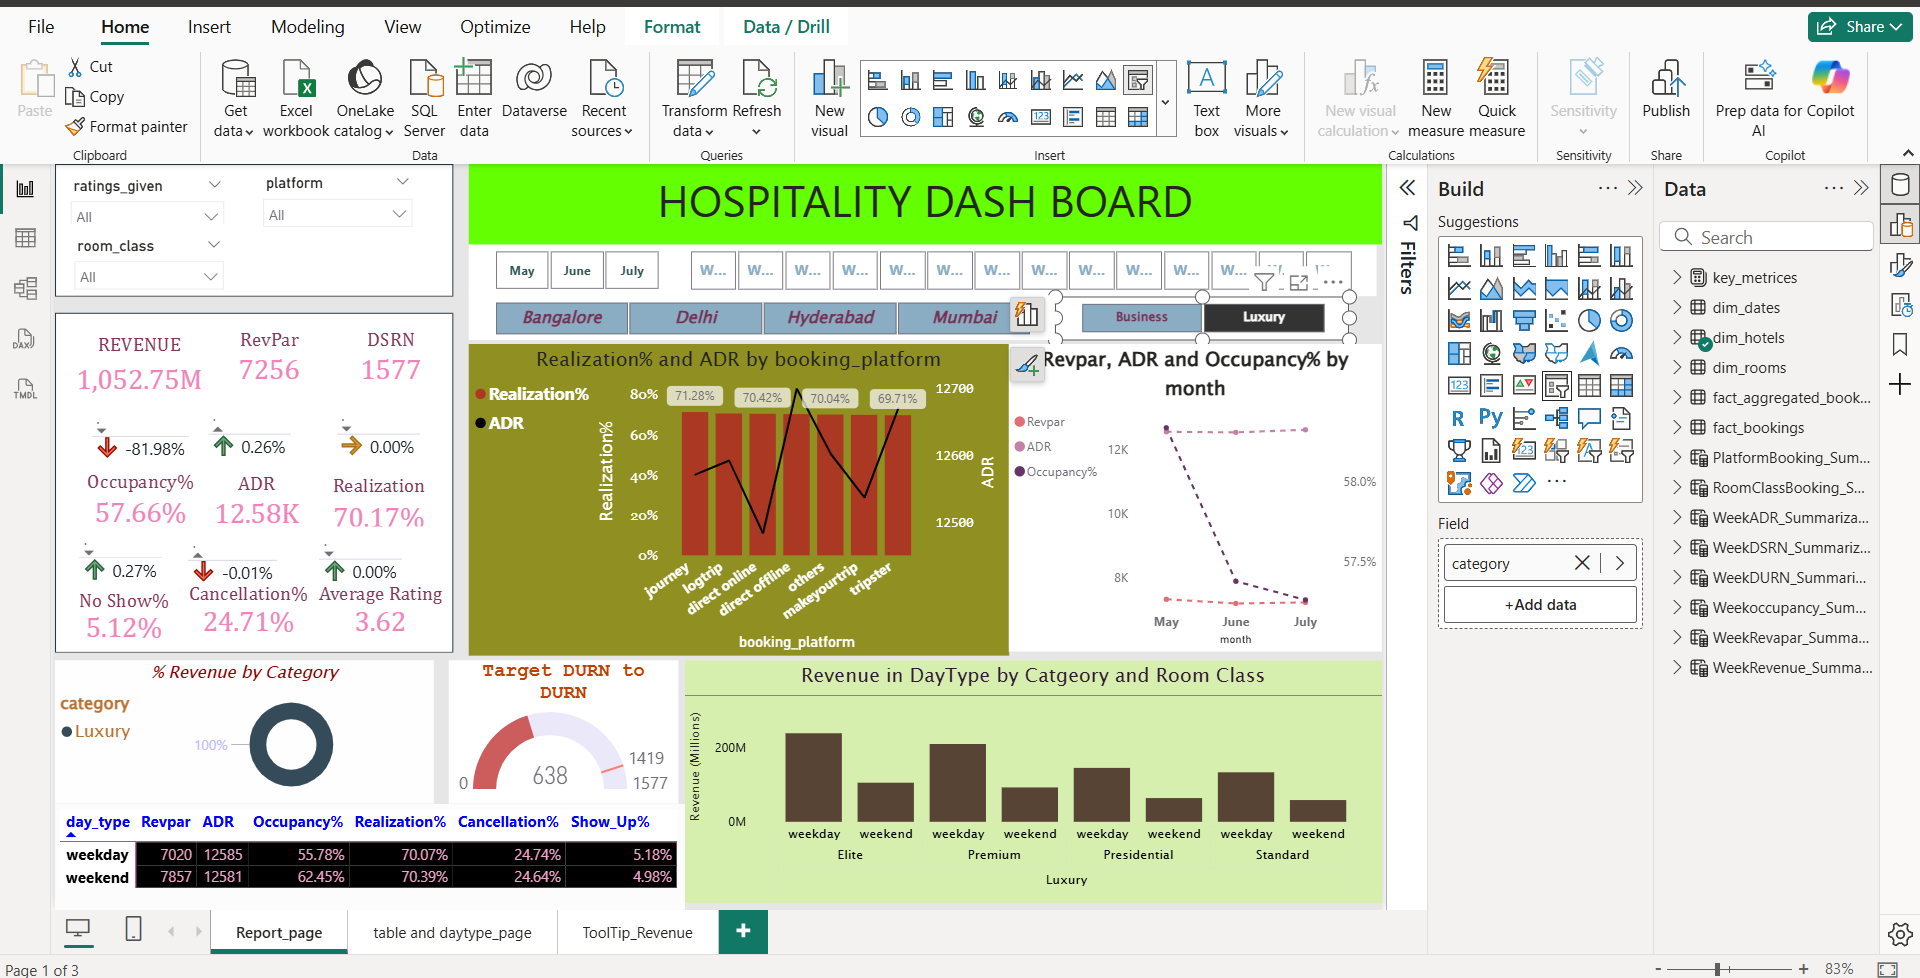

This screenshot's page, from the dashboard's own definition file:
{"tool":"powerbi","page":{"name":"Report_page","canvas":[1280,720],"ordinal":0},"visuals":[{"type":"shape","box":[0,144,384.5,328.3],"z":0},{"type":"slicer","fields":{"Values":["dim_dates.week no"]},"box":[587.5,77.2,687.7,50.7],"z":1000},{"type":"slicer","fields":{"Values":["dim_dates.month"]},"box":[398.9,77.8,207.4,50.4],"z":2000},{"type":"card","title":"REVENUE","fields":{"Values":["key_metrices.Total_Revenue"]},"box":[14.4,162.7,133.9,69.1],"z":3000},{"type":"card","title":"RevPar","fields":{"Values":["key_metrices.Revpar"]},"box":[141.1,158.4,131,59],"z":4000},{"type":"card","title":"DSRN","fields":{"Values":["key_metrices.DSRN"]},"box":[266.4,158.4,115.2,59],"z":5000},{"type":"tableEx","title":"RevPar","fields":{"Values":["key_metrices.Revpar Week%"]},"box":[141.1,229,118.1,70.6],"z":6000},{"type":"tableEx","title":"RevPar","fields":{"Values":["key_metrices.Revenue WOW%"]},"box":[28.8,231.8,119.5,70.6],"z":7000},{"type":"tableEx","title":"RevPar","fields":{"Values":["key_metrices.DSRN WOW%"]},"box":[265,229,115.2,70.6],"z":8000},{"type":"card","title":"Occupancy%","fields":{"Values":["key_metrices.Occupancy%"]},"box":[23,295.2,119.5,60.5],"z":9000},{"type":"card","title":"ADR","fields":{"Values":["key_metrices.ADR"]},"box":[136.8,296.6,116.6,60.5],"z":10000},{"type":"card","title":"Realization","fields":{"Values":["key_metrices.Relization%"]},"box":[244.8,299.5,135.4,63.4],"z":11000},{"type":"tableEx","title":"RevPar","fields":{"Values":["key_metrices.Occupancy WOW%"]},"box":[17.3,348.5,109.4,60.5],"z":12000},{"type":"tableEx","title":"RevPar","fields":{"Values":["key_metrices.ADR Week%"]},"box":[122.4,351.4,131,59],"z":13000},{"type":"tableEx","title":"RevPar","fields":{"Values":["key_metrices.Realization WOW%"]},"box":[249.1,349.9,131,59],"z":14000},{"type":"card","title":"No Show%","fields":{"Values":["key_metrices.Show_Up%"]},"box":[17.3,410.4,99.4,53.3],"z":15000},{"type":"card","title":"Cancellation%","fields":{"Values":["key_metrices.Cancellation%"]},"box":[121,403.2,132.5,56.2],"z":16000},{"type":"card","title":"Average Rating","fields":{"Values":["key_metrices.Average_Rating"]},"box":[249.1,403.2,131,56.2],"z":17000},{"type":"actionButton","box":[23,17.3,99.4,40.3],"z":18000},{"type":"pivotTable","fields":{"Rows":["dim_dates.day_type"],"Values":["key_metrices.Revpar","key_metrices.ADR","key_metrices.Occupancy%","key_metrices.Relization%","key_metrices.Cancellation%","key_metrices.Show_Up%"]},"box":[0,617.8,607.7,102.2],"z":19000},{"type":"lineStackedColumnComboChart","fields":{"Category":["fact_bookings.booking_platform"],"Y":["key_metrices.Realization%"],"Y2":["key_metrices.ADR"]},"box":[398.9,174.2,521.3,301],"z":20000},{"type":"donutChart","title":"% Revenue by Category","fields":{"Category":["dim_hotels.category"],"Y":["key_metrices.Total_Revenue"]},"box":[0,479.5,365.8,138.2],"z":21000},{"type":"gauge","title":"Target DURN to DURN","fields":{"Y":["key_metrices.DURN"],"MaxValue":["key_metrices.DSRN"],"TargetValue":["key_metrices.Target_DURN"]},"box":[380.2,479.5,221.8,138.2],"z":22000},{"type":"columnChart","title":"Revenue in DayType by Catgeory and Room Class ","fields":{"Y":["key_metrices.Total_Revenue"],"Category":["dim_hotels.category","dim_rooms.room_class","dim_dates.day_type"]},"box":[607.7,479.5,672.5,234.7],"z":23000},{"type":"textbox","box":[398.9,0,881.3,77.8],"z":24000},{"type":"slicer","fields":{"Values":["dim_hotels.category"]},"box":[964.8,128.2,283.7,41.8],"z":25000},{"type":"slicer","fields":{"Values":["dim_hotels.city"]},"box":[398.9,126.7,565.9,43.2],"z":26000},{"type":"shape","box":[0,0,384.5,128.2],"z":27000},{"type":"slicer","fields":{"Values":["fact_bookings.ratings_given"]},"box":[4.3,7.2,168.5,50.4],"z":28000},{"type":"slicer","fields":{"Values":["fact_bookings.booking_platform"]},"box":[190.1,4.3,164.2,56.2],"z":29000},{"type":"slicer","fields":{"Values":["dim_rooms.room_class"]},"box":[8.6,64.8,164.2,56.2],"z":30000},{"type":"lineChart","fields":{"Category":["dim_dates.month"],"Y":["key_metrices.Revpar","key_metrices.ADR"],"Y2":["key_metrices.Occupancy%"]},"box":[920.2,174.2,360,296.6],"z":31000}]}

Visuals, with their boxes on the page's 1280x720 design canvas (x1, y1, x2, y2). These are canvas units, not pixel positions in the 1920x978 screenshot, which may show the page scaled, cropped or inside an application window:
shape: <region>0, 144, 384, 472</region>
slicer - dim_dates.week no: <region>588, 77, 1275, 128</region>
slicer - dim_dates.month: <region>399, 78, 606, 128</region>
"REVENUE" card: <region>14, 163, 148, 232</region>
"RevPar" card: <region>141, 158, 272, 217</region>
"DSRN" card: <region>266, 158, 382, 217</region>
"RevPar" tableEx: <region>141, 229, 259, 300</region>
"RevPar" tableEx: <region>29, 232, 148, 302</region>
"RevPar" tableEx: <region>265, 229, 380, 300</region>
"Occupancy%" card: <region>23, 295, 142, 356</region>
"ADR" card: <region>137, 297, 253, 357</region>
"Realization" card: <region>245, 300, 380, 363</region>
"RevPar" tableEx: <region>17, 348, 127, 409</region>
"RevPar" tableEx: <region>122, 351, 253, 410</region>
"RevPar" tableEx: <region>249, 350, 380, 409</region>
"No Show%" card: <region>17, 410, 117, 464</region>
"Cancellation%" card: <region>121, 403, 254, 459</region>
"Average Rating" card: <region>249, 403, 380, 459</region>
actionButton: <region>23, 17, 122, 58</region>
pivotTable - dim_dates.day_type x key_metrices.Revpar: <region>0, 618, 608, 720</region>
lineStackedColumnComboChart - fact_bookings.booking_platform x key_metrices.Realization%: <region>399, 174, 920, 475</region>
"% Revenue by Category" donutChart: <region>0, 480, 366, 618</region>
"Target DURN to DURN" gauge: <region>380, 480, 602, 618</region>
"Revenue in DayType by Catgeory and Room Class " columnChart: <region>608, 480, 1280, 714</region>
textbox: <region>399, 0, 1280, 78</region>
slicer - dim_hotels.category: <region>965, 128, 1248, 170</region>
slicer - dim_hotels.city: <region>399, 127, 965, 170</region>
shape: <region>0, 0, 384, 128</region>
slicer - fact_bookings.ratings_given: <region>4, 7, 173, 58</region>
slicer - fact_bookings.booking_platform: <region>190, 4, 354, 60</region>
slicer - dim_rooms.room_class: <region>9, 65, 173, 121</region>
lineChart - dim_dates.month x key_metrices.Revpar: <region>920, 174, 1280, 471</region>
